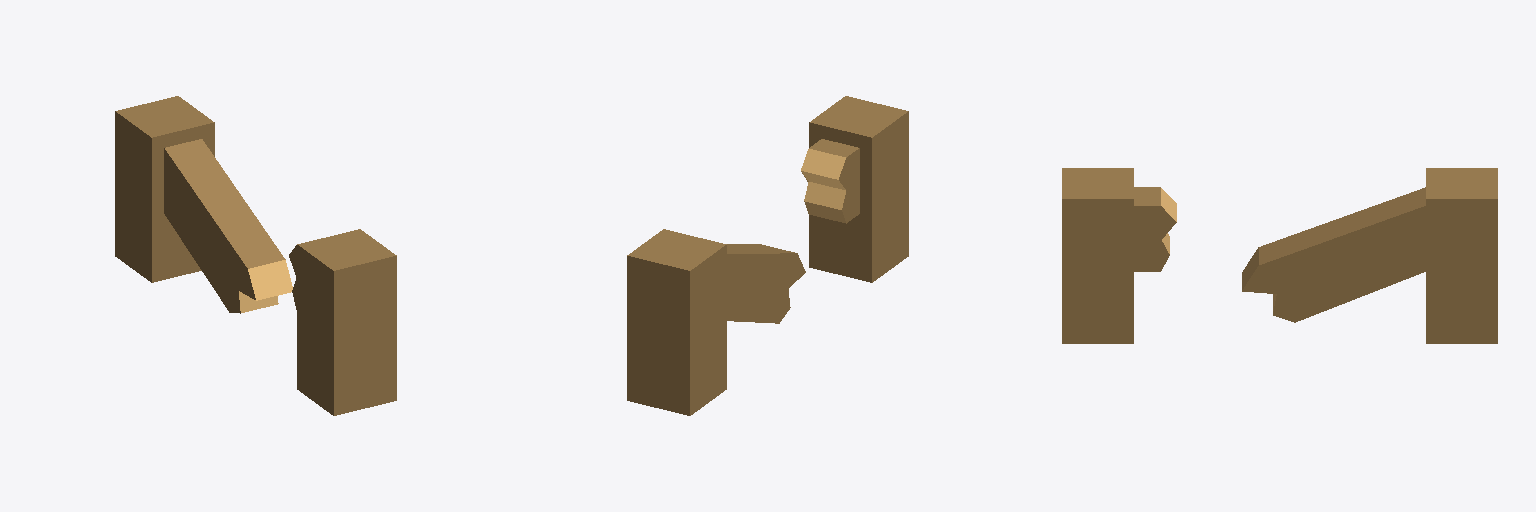
3 renders of one model, left to right at view 1: azimuth 30°, elevation 25°; view 2: azimuth 150°, elevation 25°; view 3: azimuth 270°, elevation 25°, orthographic.
Visible parts, largest first — view 1: Mesh2 Wood_Fence_Broken Model, Mesh1 Wood_Fence_Broken Model; view 2: Mesh2 Wood_Fence_Broken Model, Mesh1 Wood_Fence_Broken Model; view 3: Mesh2 Wood_Fence_Broken Model, Mesh1 Wood_Fence_Broken Model.
Part boxes in pixels (bbox=[...]): Mesh2 Wood_Fence_Broken Model: bbox=[115, 96, 292, 313]; Mesh1 Wood_Fence_Broken Model: bbox=[289, 229, 396, 415]; Mesh2 Wood_Fence_Broken Model: bbox=[627, 229, 805, 415]; Mesh1 Wood_Fence_Broken Model: bbox=[801, 96, 908, 282]; Mesh2 Wood_Fence_Broken Model: bbox=[1242, 168, 1497, 343]; Mesh1 Wood_Fence_Broken Model: bbox=[1062, 168, 1176, 343].
Bounding box in the file's own units: 0.5 × 1.1 × 3.
1 materials, 1 textured.